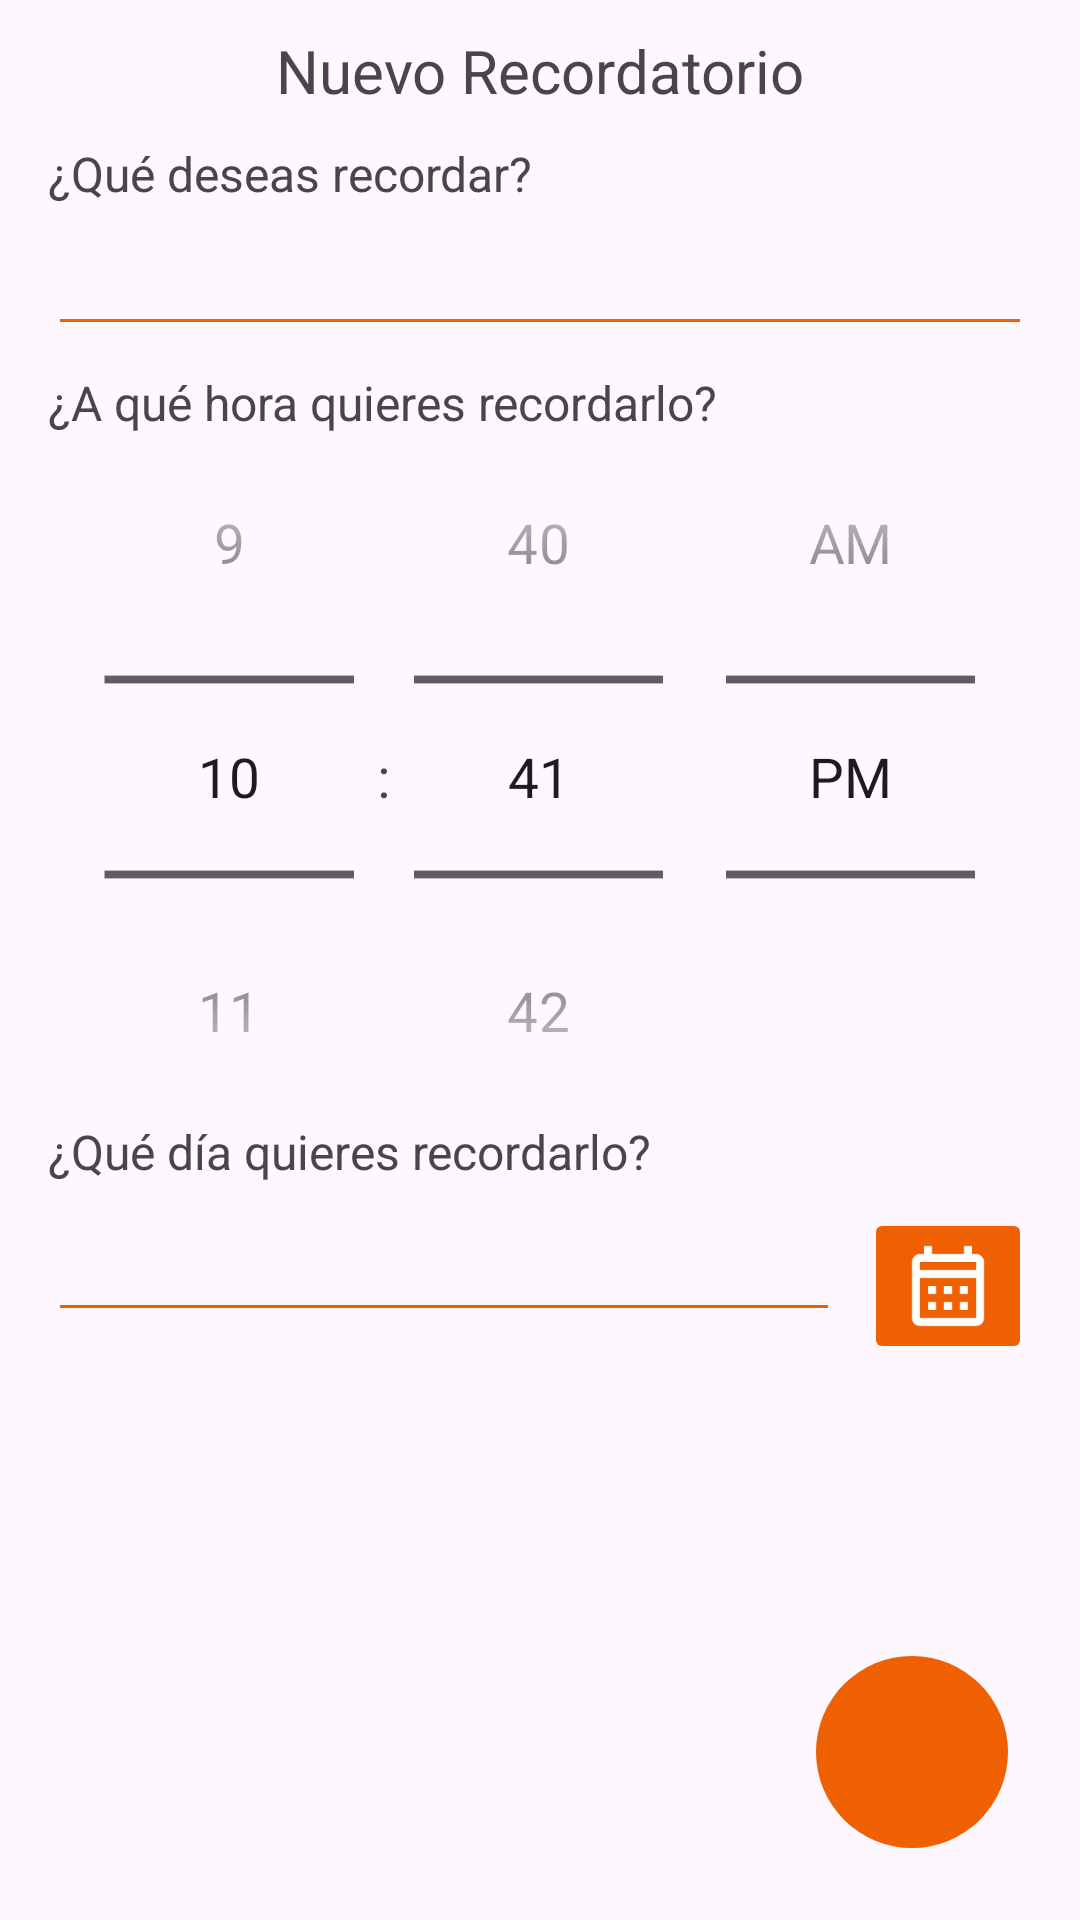

Screen size 1080x1920. Icon name, then its center in pixels as point (x, y):
calendar month: point (948, 1286)
